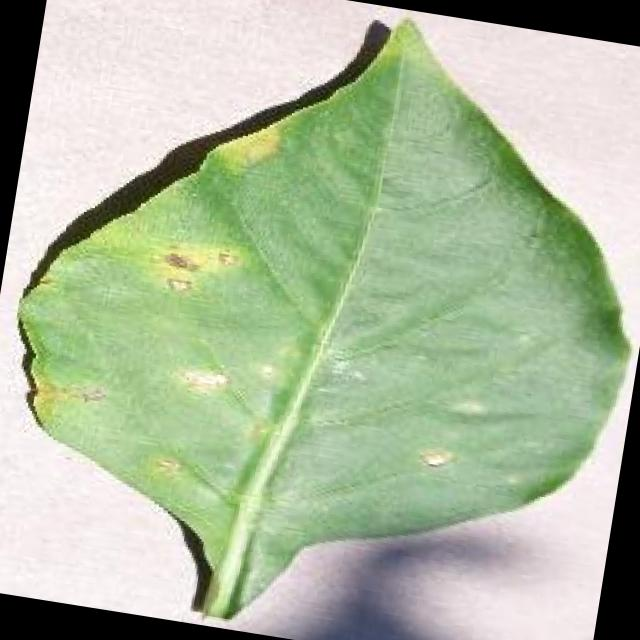Chilli_Bacterial_Spot: (0, 0, 640, 640), (139, 228, 246, 310), (200, 108, 288, 184), (26, 368, 110, 418), (169, 358, 234, 402), (143, 447, 190, 488), (410, 441, 459, 478), (156, 244, 202, 278), (157, 270, 195, 300), (209, 242, 243, 274)
